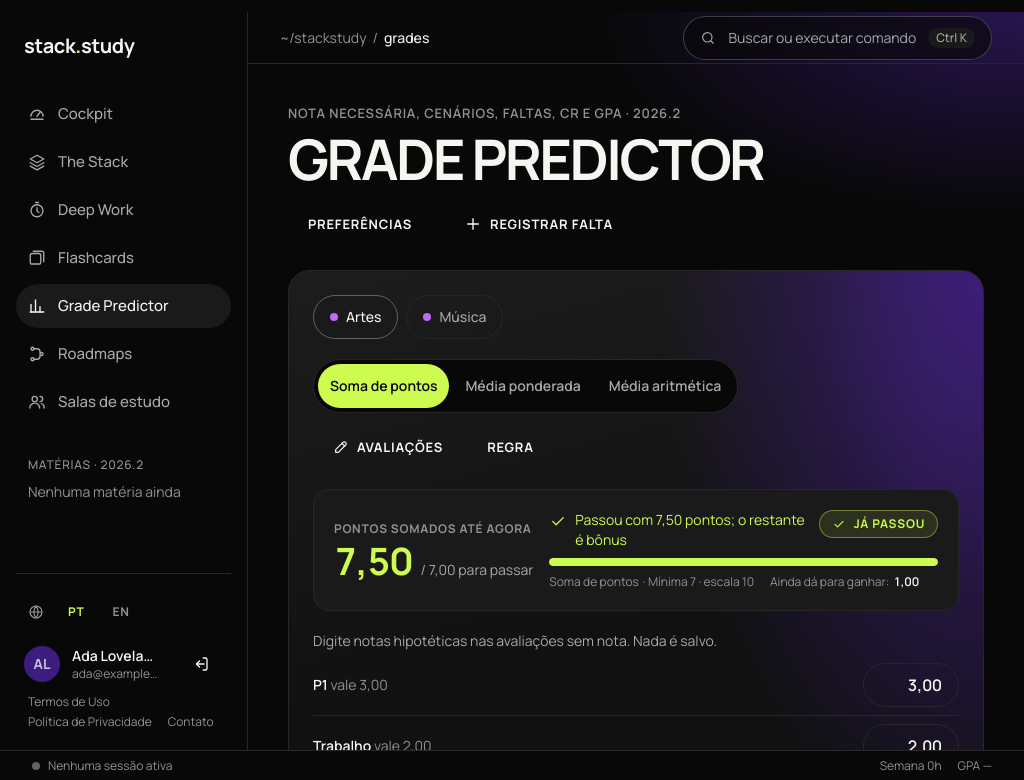
Test: Grade Predictor em soma de pontos › já passou e impossível (ícone + texto, não só cor)
Click the tab "Artes". click: (356, 317)
box: [313, 295, 398, 339]
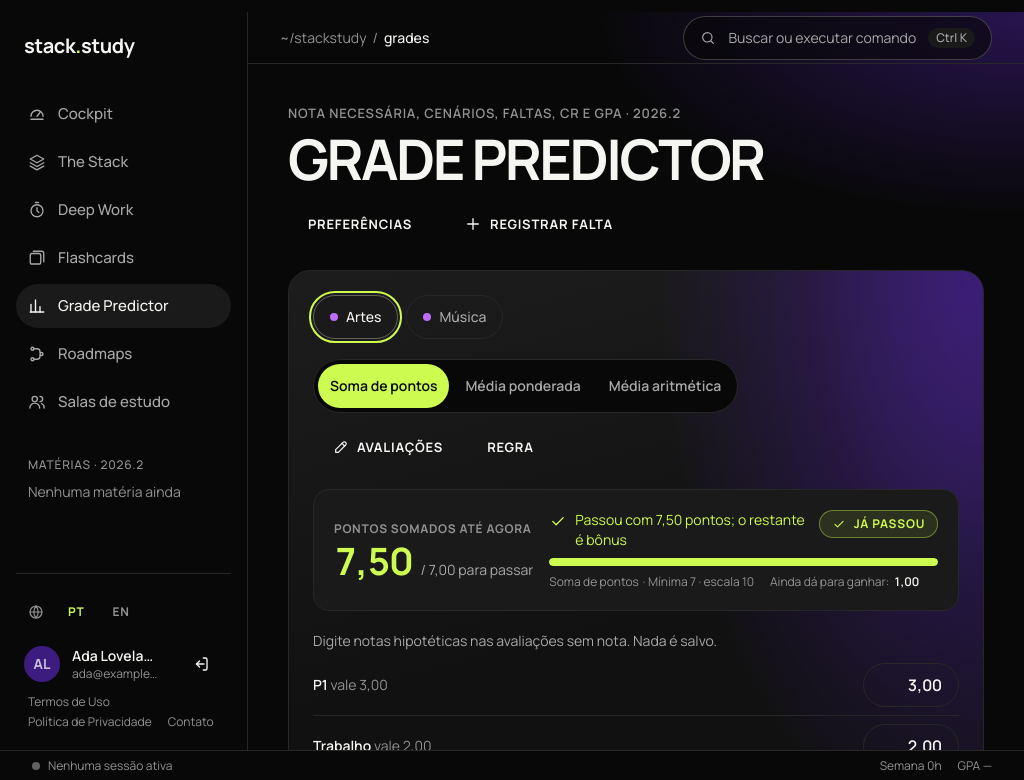
expect the text "Já passou" is shown: met, box [819, 510, 938, 538]
expect the text "Passou com 7,50 pontos; o restante é bônus" is shown: met, box [575, 510, 811, 550]
Click the tab "Música". click: (455, 317)
box: [406, 295, 503, 339]
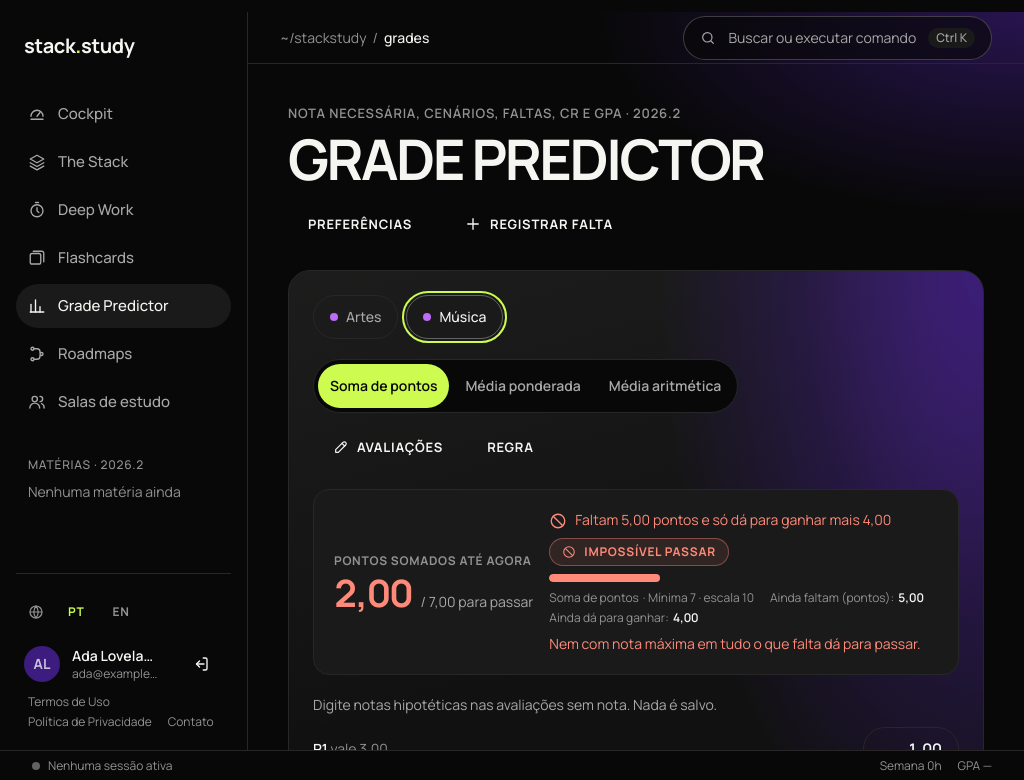
expect the text "Impossível passar" is shown: met, box [549, 538, 729, 566]
expect the text "Faltam 5,00 pontos e só dá para ganhar mais 4,00" is shown: met, box [575, 510, 891, 530]
